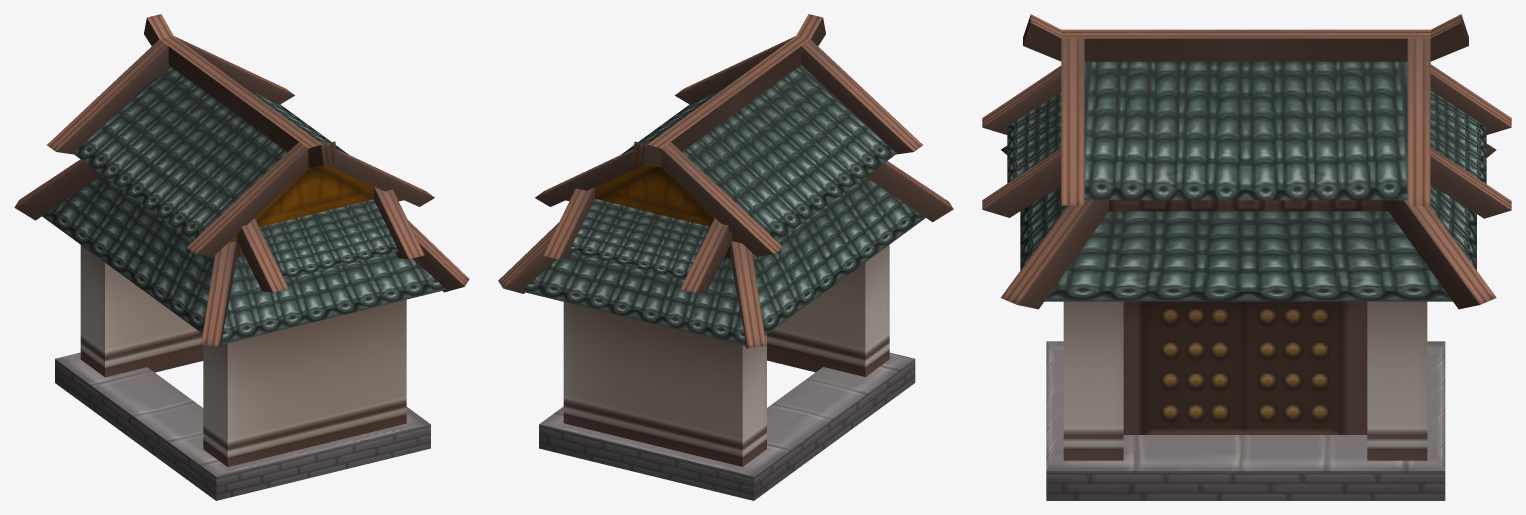
Rendered from zhucheng01_bangpai.FBX.
3 renders of one model, left to right at view 1: azimuth 30°, elevation 25°; view 2: azimuth 150°, elevation 25°; view 3: azimuth 270°, elevation 25°, orthographic. The views are drawn at different scales.
Visible parts, largest first — view 1: Object80; view 2: Object80; view 3: Object80.
Boxes of the visible parts, bbox=[...] form: Object80: bbox=[14, 14, 469, 500]; Object80: bbox=[498, 14, 953, 500]; Object80: bbox=[982, 14, 1511, 500].
Size of the model in its own units: 8.52 by 10.21 by 11.75.
